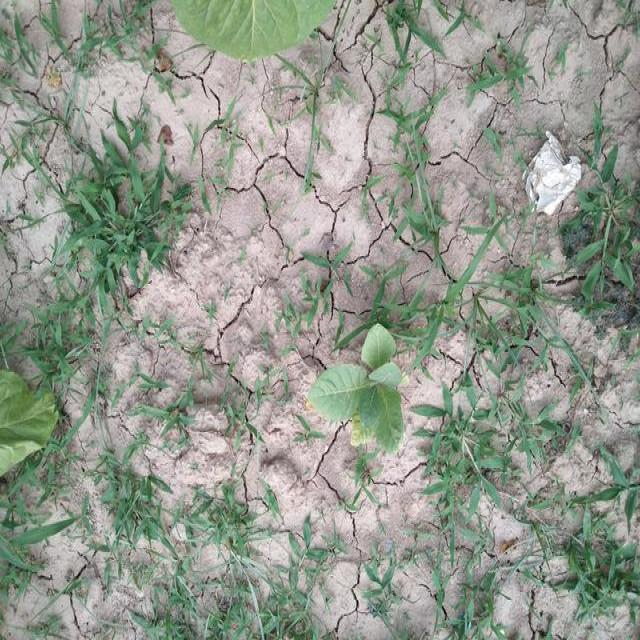crop: (302, 324, 408, 466), (170, 0, 340, 62), (0, 367, 57, 487)
